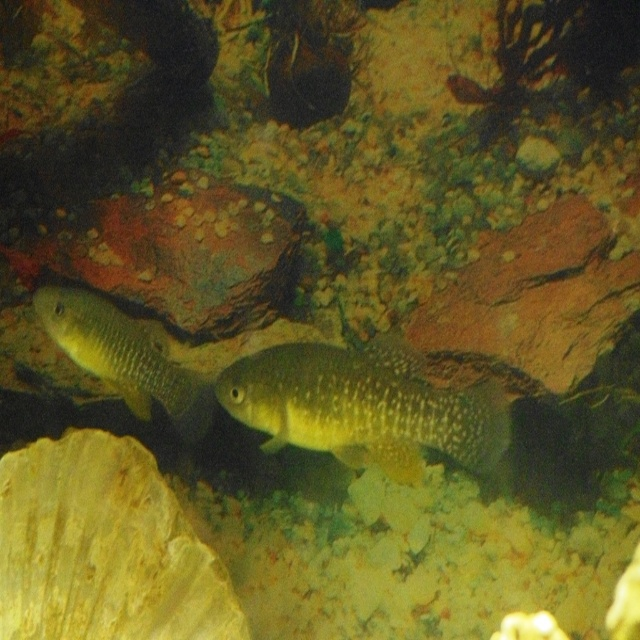Fish: (217, 336, 512, 488), (31, 278, 214, 438)
